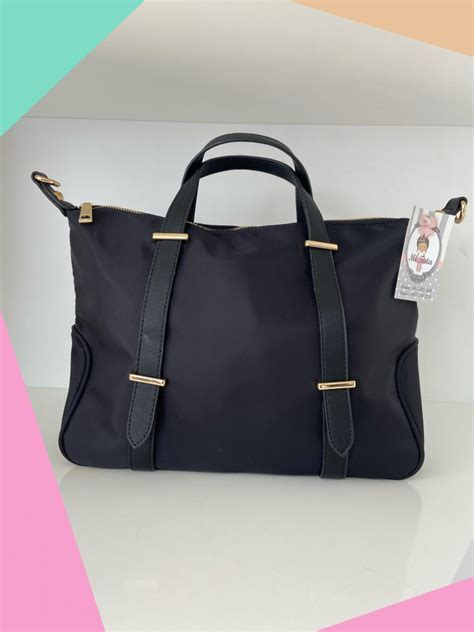nylon: (30, 131, 437, 482)
